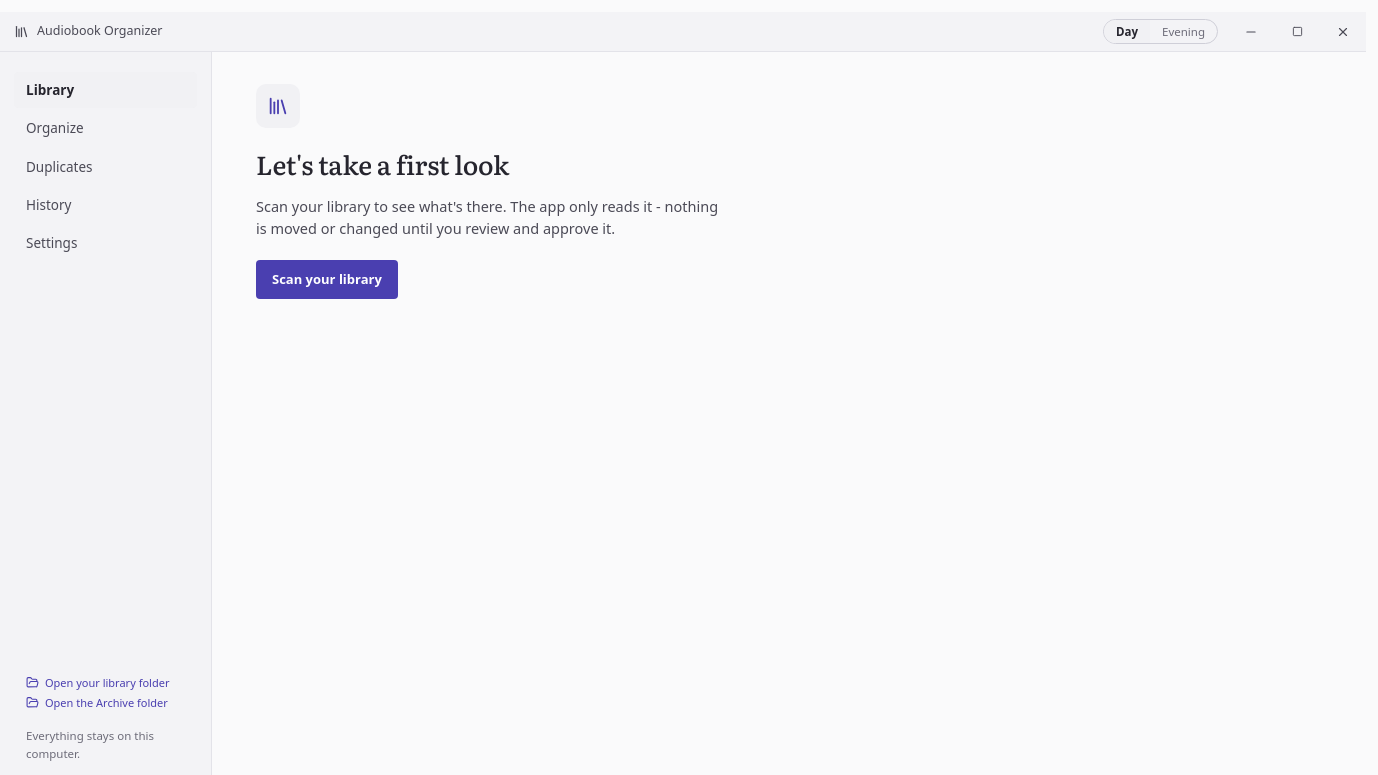
Test: AppShell › routes the Settings nav item to the real Settings screen
This screenshot has width=1378, height=775.
Click the button "Settings": (106, 243) left=14, top=225, right=197, bottom=261
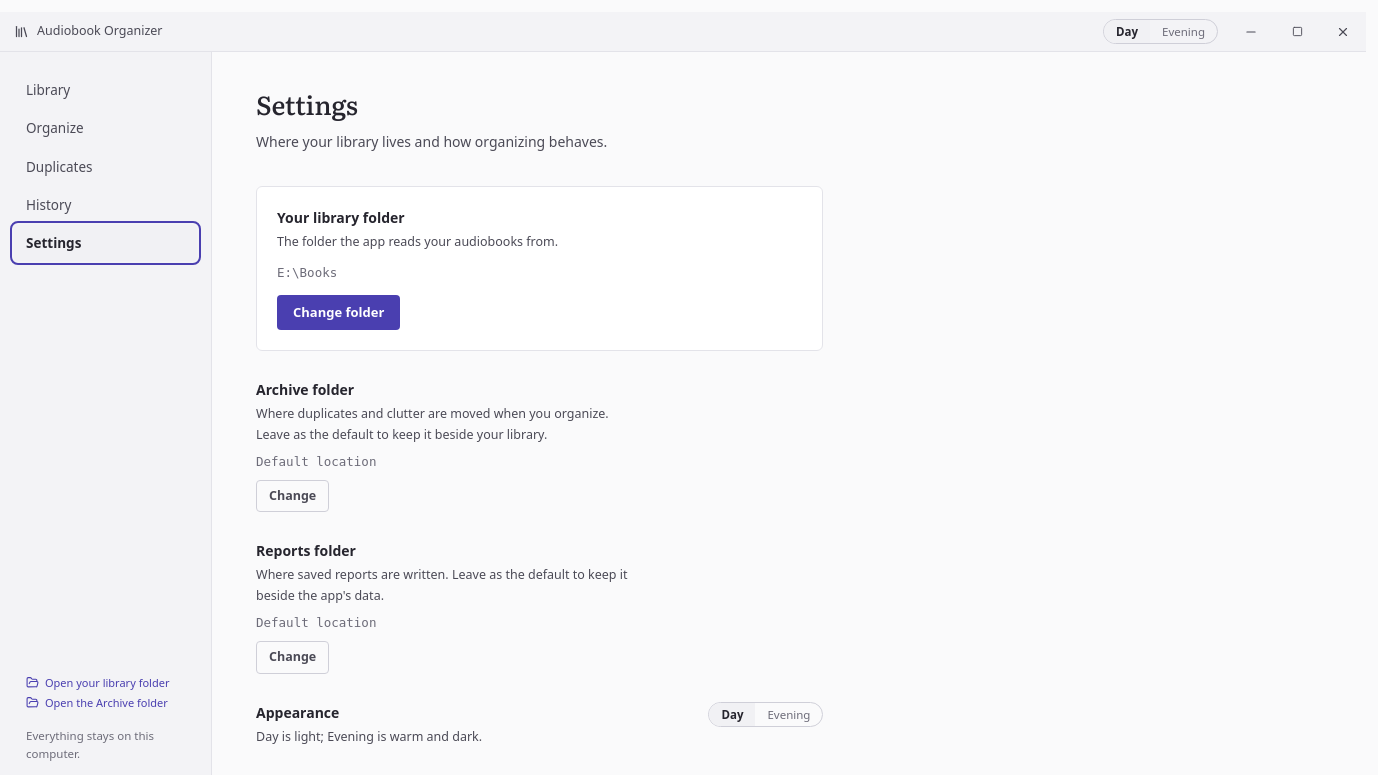
expect the text "E:\\Books" is shown: met, box left=277, top=265, right=337, bottom=280
